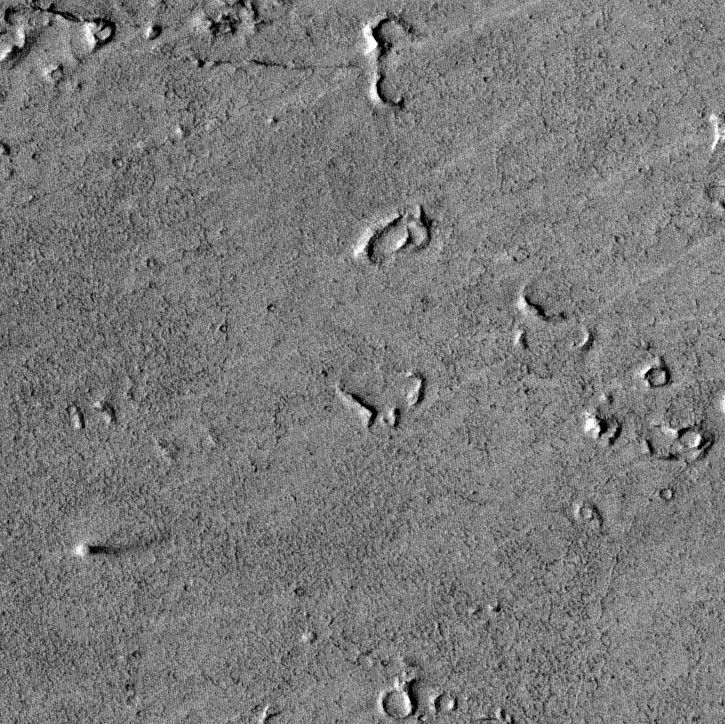dust_devil: (74, 531, 172, 558)
